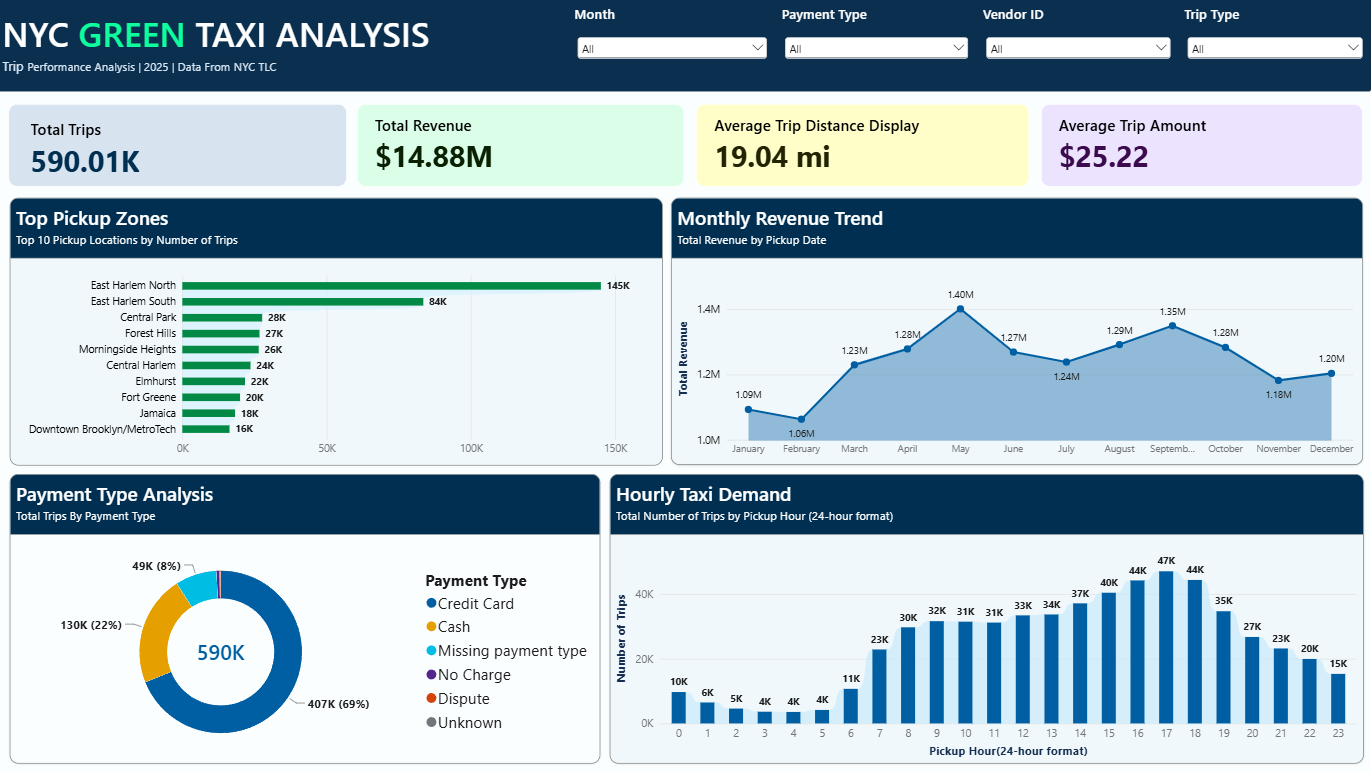

The dashboard page shown, as its layout file describes it:
{"tool":"powerbi","page":{"name":"Page 1","canvas":[1920,1080],"ordinal":0},"visuals":[{"type":"columnChart","title":"Hourly Taxi Demand","fields":{"Category":["silver_trips.pickup_hour"],"Y":["dim_date.Total Trips"]},"box":[855.9,663.3,1051.9,403.7],"z":0},{"type":"lineChart","title":"Monthly Revenue Trend","fields":{"Category":["dim_date.pickup_date.Variation.Date Hierarchy.Month","dim_date.pickup_date.Variation.Date Hierarchy.Day"],"Y":["dim_date.Total Revenue"]},"box":[942,277.4,965.4,372.8],"z":1000},{"type":"donutChart","title":"Payment Type Analysis","fields":{"Category":["dim_payment_type.payment_type_name"],"Y":["dim_date.Total Trips"]},"box":[18.4,663.3,824.1,403.7],"z":2000},{"type":"cardVisual","fields":{"Data":["dim_date.Total Trips"]},"box":[18,145.9,471.9,115.3],"z":3000},{"type":"cardVisual","fields":{"Data":["dim_date.Total Revenue"]},"box":[504.3,145.9,455.7,115.3],"z":4000},{"type":"cardVisual","fields":{"Data":["dim_date.Average Trip Distance Display"]},"box":[976.2,145.9,464.7,115.3],"z":5000},{"type":"cardVisual","fields":{"Data":["dim_date.Average Trip Amount"]},"box":[1458.9,145.9,448.5,115.3],"z":6000},{"type":"textbox","box":[0,0,1920,129.7],"z":7000},{"type":"barChart","title":"Top Pickup Zones","fields":{"Category":["dim_location.Zone"],"Y":["dim_date.Total Trips"]},"box":[18.4,278,911.2,373.5],"z":8000},{"type":"slicer","title":"Month","fields":{"Values":["dim_date.month_name"]},"box":[798.5,0,290,88.1],"z":9000},{"type":"slicer","title":"Payment Type","fields":{"Values":["dim_payment_type.payment_type_name"]},"box":[1088.5,0,280.8,88.1],"z":10000},{"type":"slicer","title":"Vendor ID","fields":{"Values":["dim_vendor.VendorID"]},"box":[1369.3,0,282.7,88.1],"z":11000},{"type":"slicer","title":"Trip Type","fields":{"Values":["dim_trip_type.trip_type"]},"box":[1650.2,0,269.8,88.1],"z":12000}]}

Visuals, with their boxes in screenshot pixels (x1, y1, x2, y2), scaled from the page's 1920x1080 canvas onto the 1371x773 screenshot:
"Hourly Taxi Demand" columnChart: 611:475:1362:764
"Monthly Revenue Trend" lineChart: 673:199:1362:465
"Payment Type Analysis" donutChart: 13:475:602:764
cardVisual - dim_date.Total Trips: 13:104:350:187
cardVisual - dim_date.Total Revenue: 360:104:686:187
cardVisual - dim_date.Average Trip Distance Display: 697:104:1029:187
cardVisual - dim_date.Average Trip Amount: 1042:104:1362:187
textbox: 0:0:1370:93
"Top Pickup Zones" barChart: 13:199:664:466
"Month" slicer: 570:0:777:63
"Payment Type" slicer: 777:0:978:63
"Vendor ID" slicer: 978:0:1180:63
"Trip Type" slicer: 1178:0:1370:63
